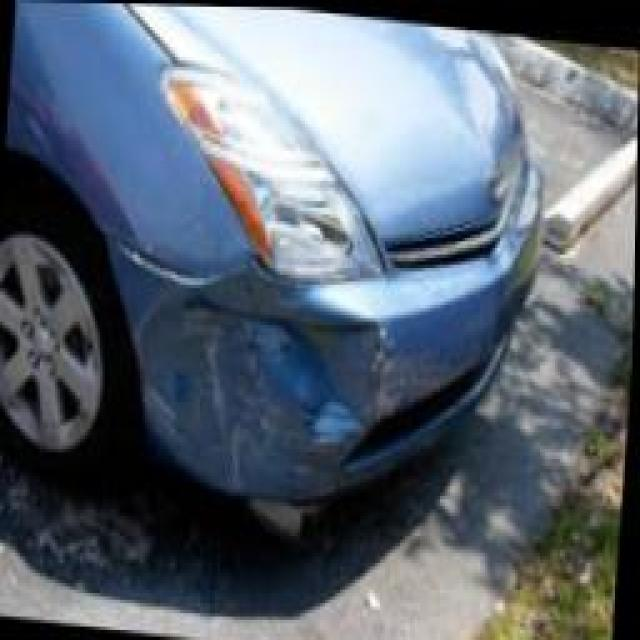replaceable: (180, 271, 400, 490)
